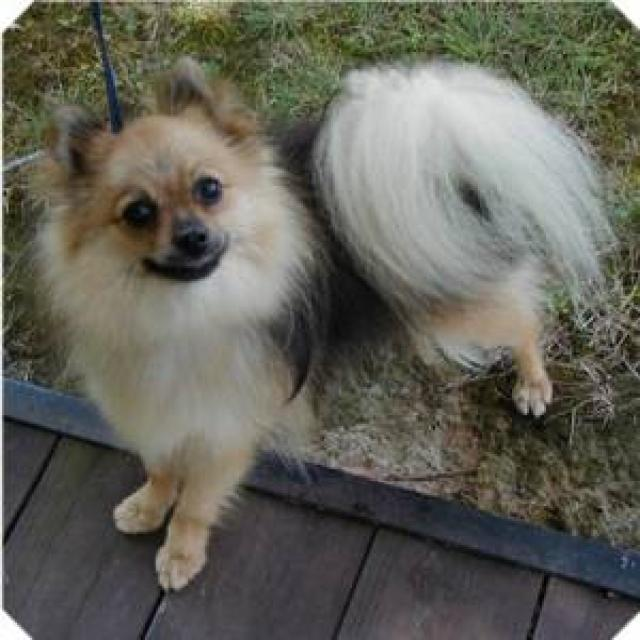dog-pomeranian: (30, 41, 585, 603)
